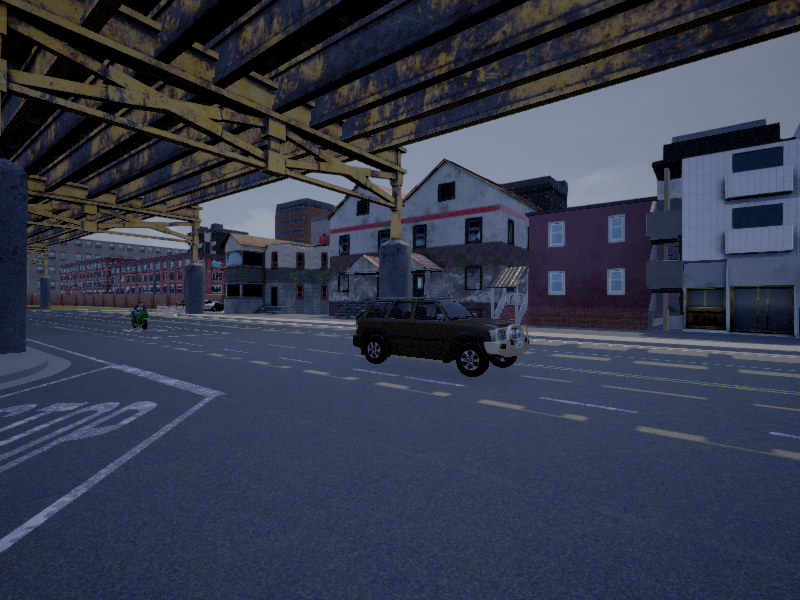benign: (353, 303, 532, 377)
